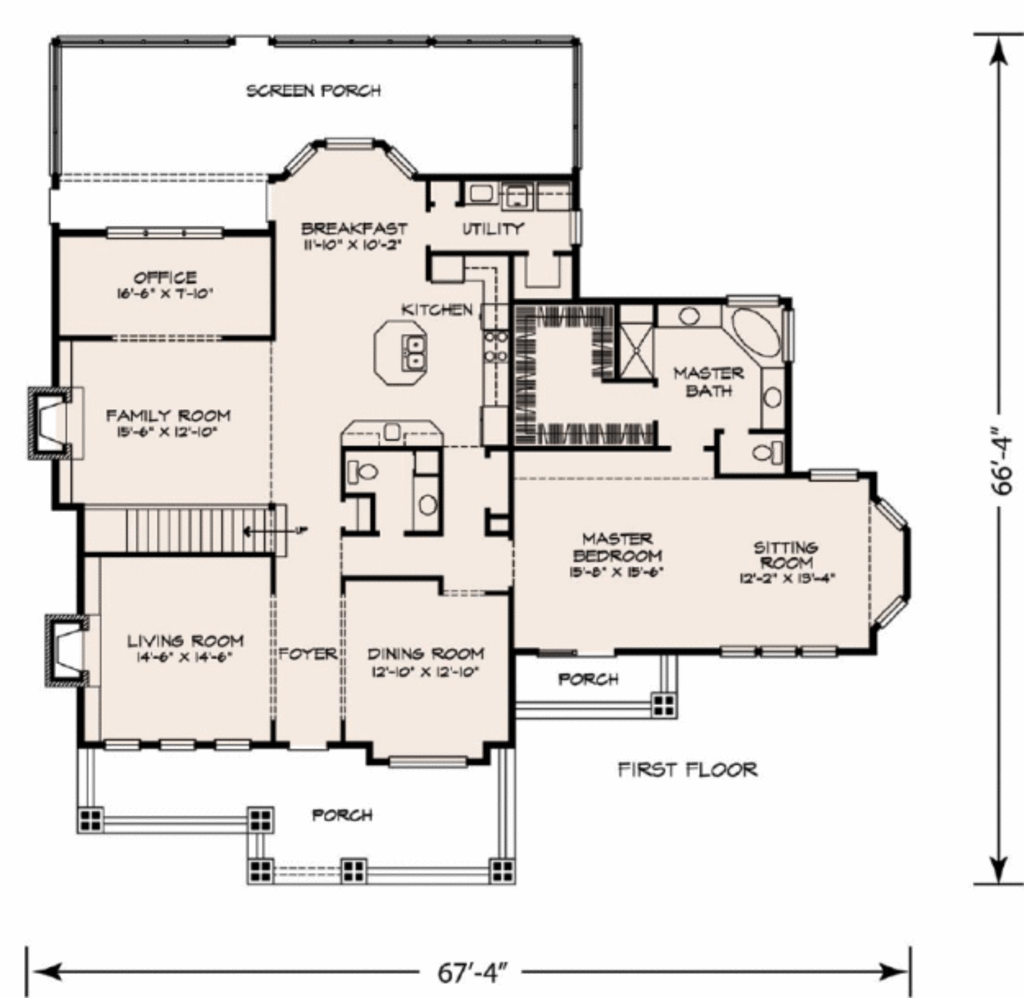large_sink: (338, 443, 388, 490), (748, 427, 786, 468)
small_sink: (412, 482, 445, 530), (761, 374, 789, 420), (671, 301, 708, 326)
stairs: (88, 498, 309, 568)
tub: (723, 299, 793, 368)
twin_sink: (398, 332, 434, 374)
window: (279, 127, 420, 181), (713, 633, 844, 664), (97, 222, 231, 247), (852, 481, 913, 533), (378, 748, 473, 774), (872, 586, 911, 634), (207, 734, 254, 760), (806, 466, 863, 487), (152, 735, 195, 758), (98, 737, 139, 755)
